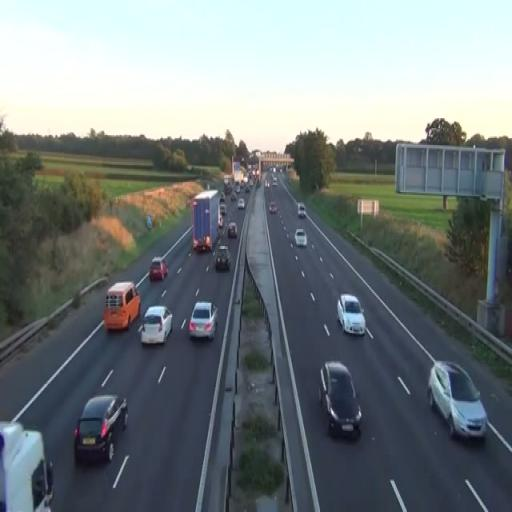Car: (427, 360, 488, 442), (74, 395, 128, 464), (318, 361, 362, 441), (103, 280, 141, 332), (140, 305, 173, 346), (336, 294, 366, 336), (188, 301, 218, 342), (214, 244, 232, 272), (148, 257, 168, 282), (294, 228, 308, 248), (228, 223, 237, 238), (298, 203, 306, 218), (237, 198, 245, 210)
Truck: (0, 420, 54, 511), (190, 190, 220, 252)
